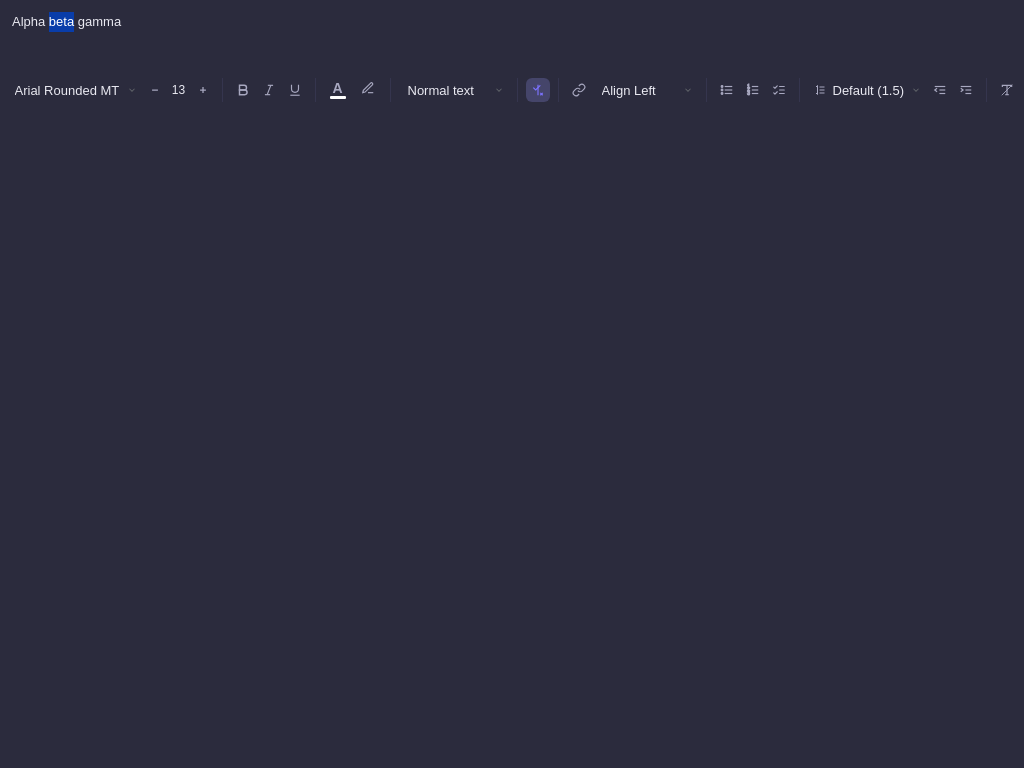
Scenario: Insert Link from the toolbar › keeps the popup open with an error for a refused URL, and writes nothing
Click the button named "Insert Link (Ctrl+K)". click: (578, 90)
box: 566,78 -> 590,102
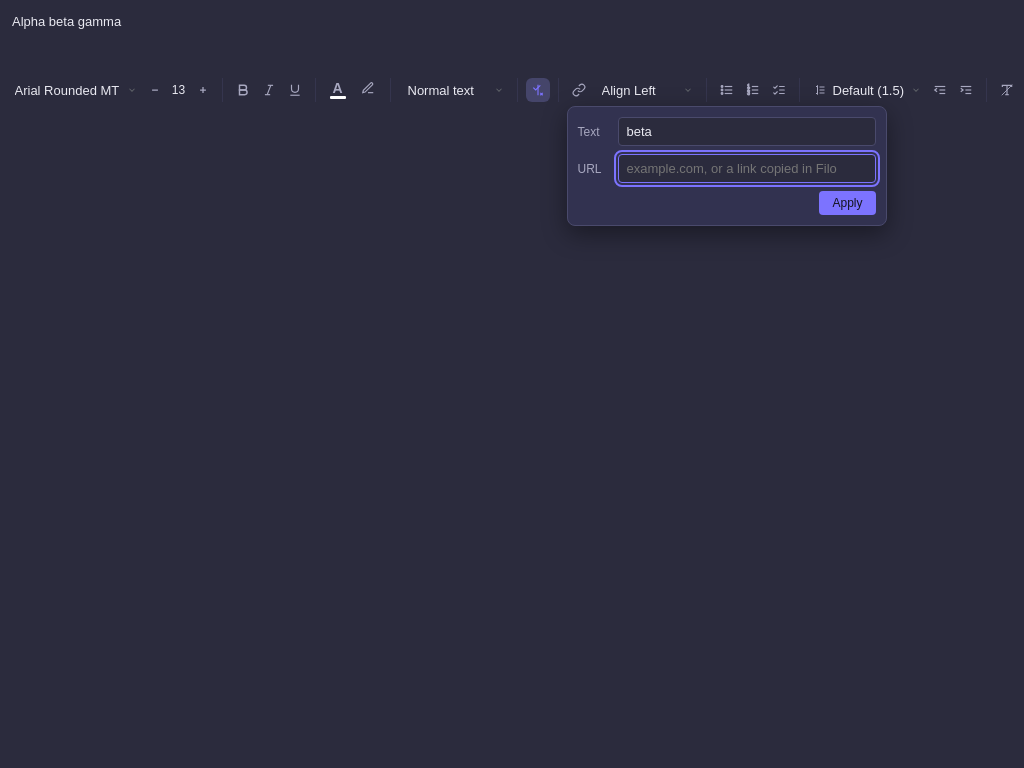
Type "javascript:alert(1)" into the field labelled "URL". click: (746, 168)
box: 618,154 -> 876,183
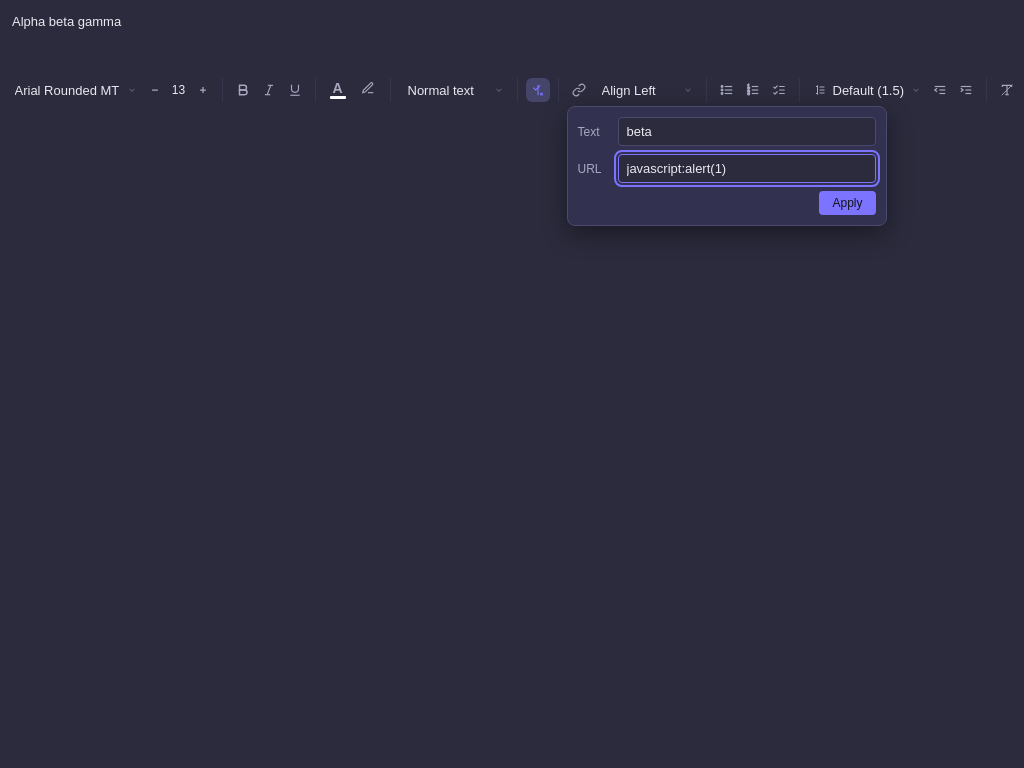
Press Enter in the field labelled "URL", box 618,154 -> 876,183
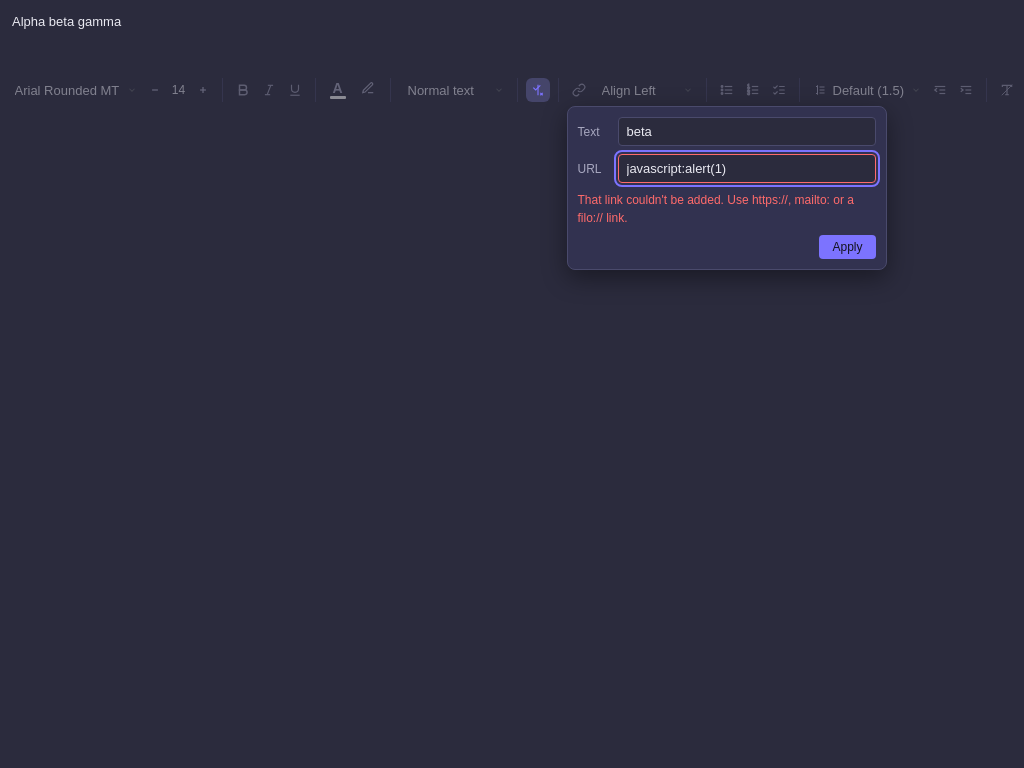
Expected: the message "That link couldn't be added. Use https://, mailto: or a filo:// link." is shown, 578,191 -> 876,227
